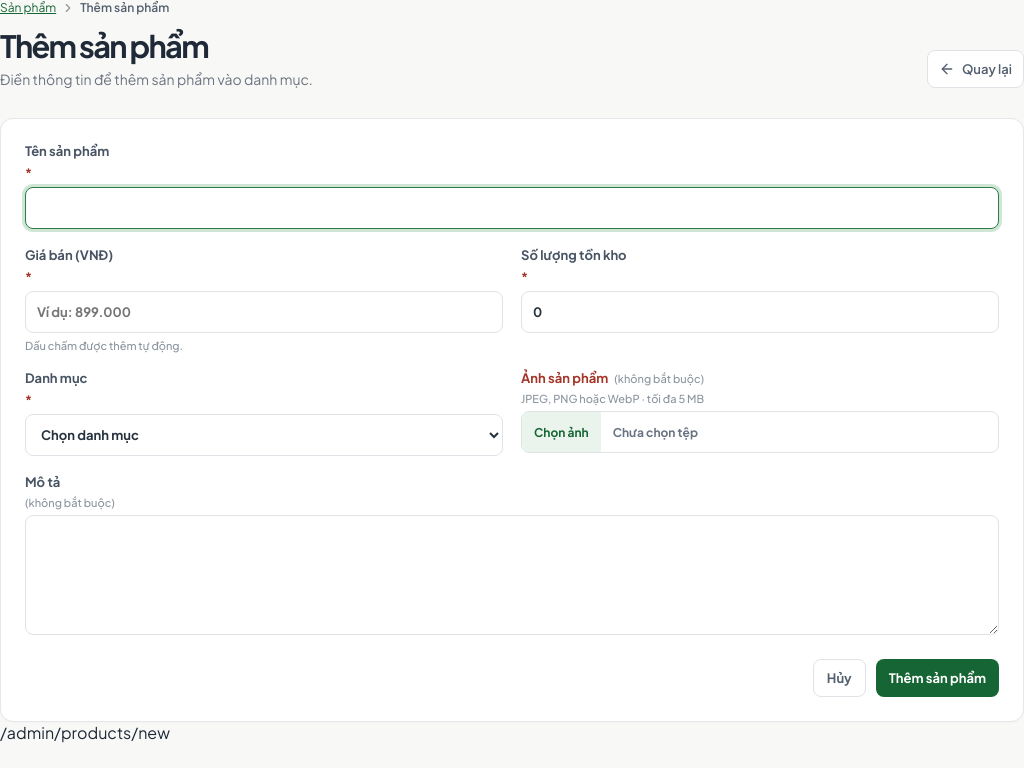
Test case: ProductFormPage › create: submits once, invalidates lists and goes to the new product
This screenshot has width=1024, height=768.
Type "Brand new" into the field labelled "Tên sản phẩm *". click: (512,208)
box: x1=25 y1=187 x2=999 y2=229
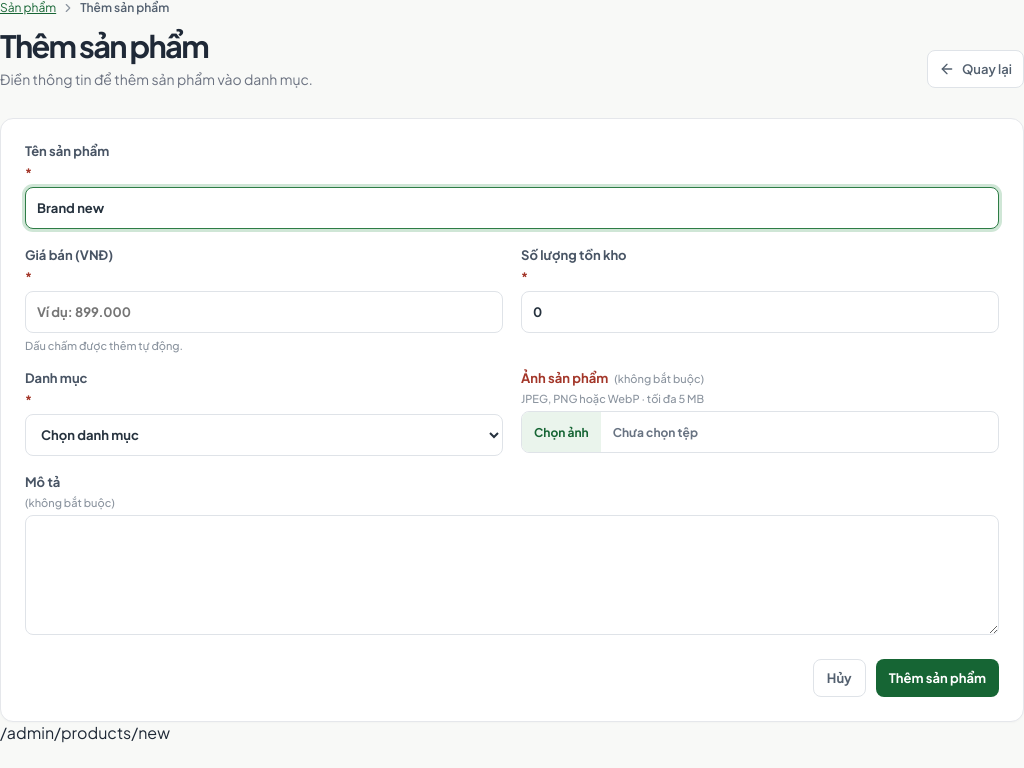
Type "1500" into the field labelled "Giá bán (VNĐ) * Dấu chấm được thêm tự động.". click: (264,312)
box: x1=25 y1=291 x2=503 y2=333
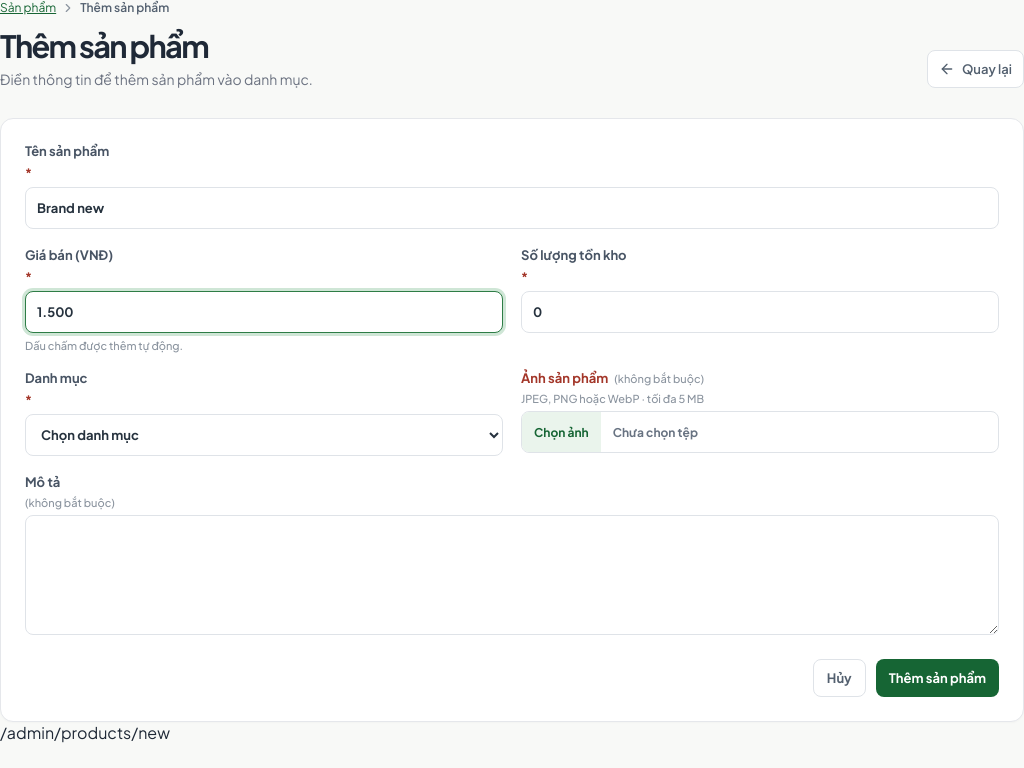
Select "Phones" in the dropdown labelled "Danh mục *". click: (264,435)
box: x1=25 y1=414 x2=503 y2=456
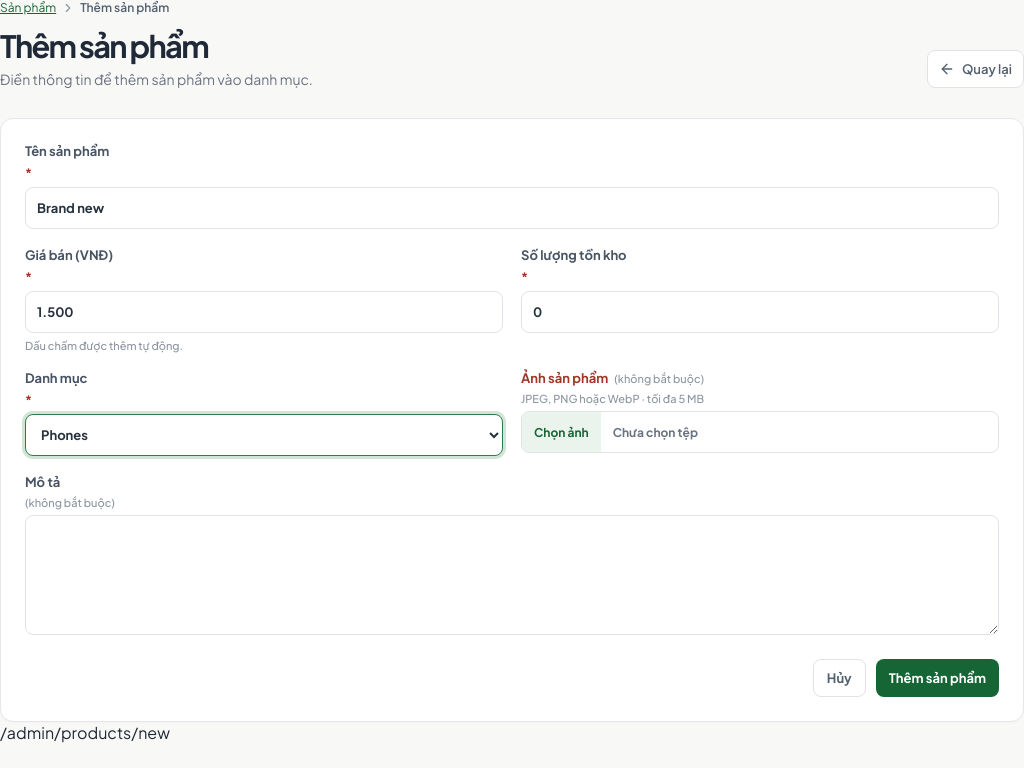
Click the button "Thêm sản phẩm". click: (937,678)
box: x1=876 y1=659 x2=999 y2=697
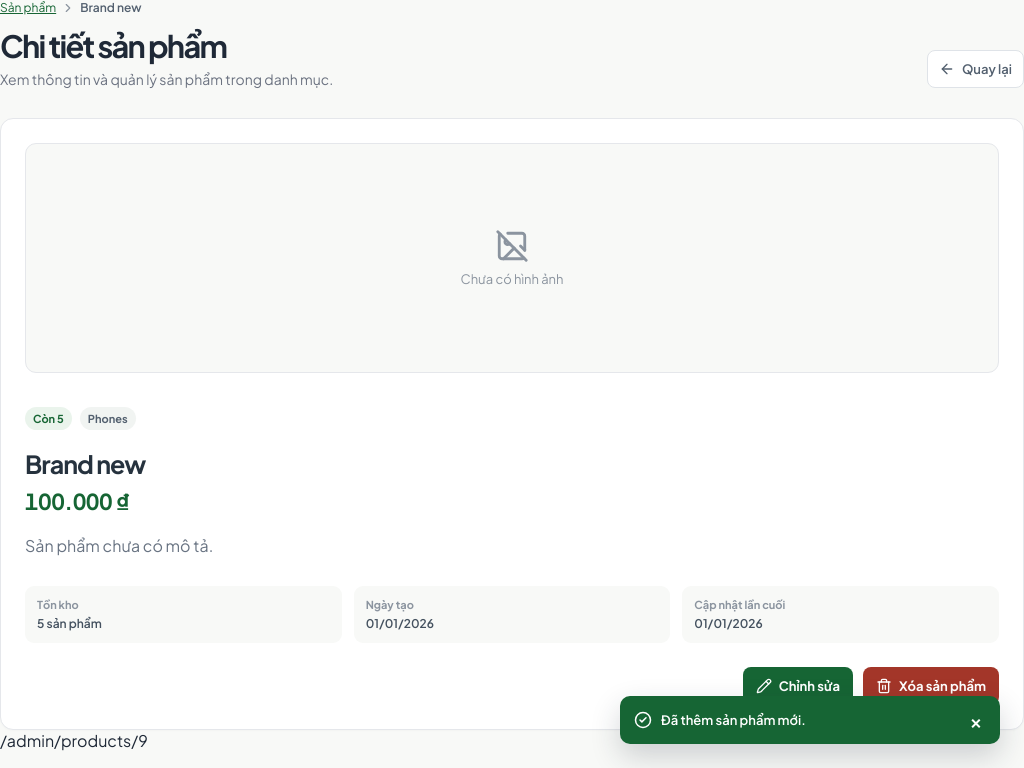
Now the text with test id "location" reads "/admin/products/9", box x1=0 y1=730 x2=148 y2=751
